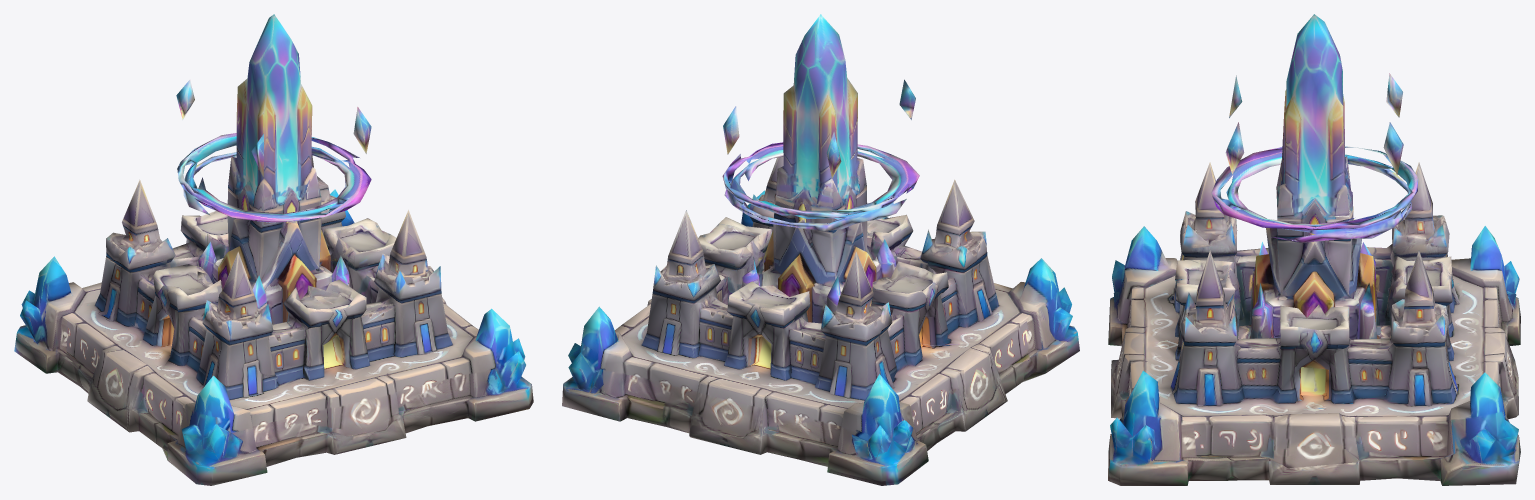
File: SpiritNexus.fbx
3 renders of one model, left to right at view 1: azimuth 30°, elevation 25°; view 2: azimuth 150°, elevation 25°; view 3: azimuth 270°, elevation 25°, orthographic. The views are drawn at different scales.
Parts seen in each view (by area): view 1: Mesh_0; view 2: Mesh_0; view 3: Mesh_0.
Boxes of the visible parts, x1=… form: Mesh_0: x1=14, y1=14, x2=533, y2=485; Mesh_0: x1=562, y1=14, x2=1079, y2=485; Mesh_0: x1=1108, y1=14, x2=1520, y2=485.
Bounding box in the file's own units: 189 × 192 × 186.
1 material, 1 textured.
